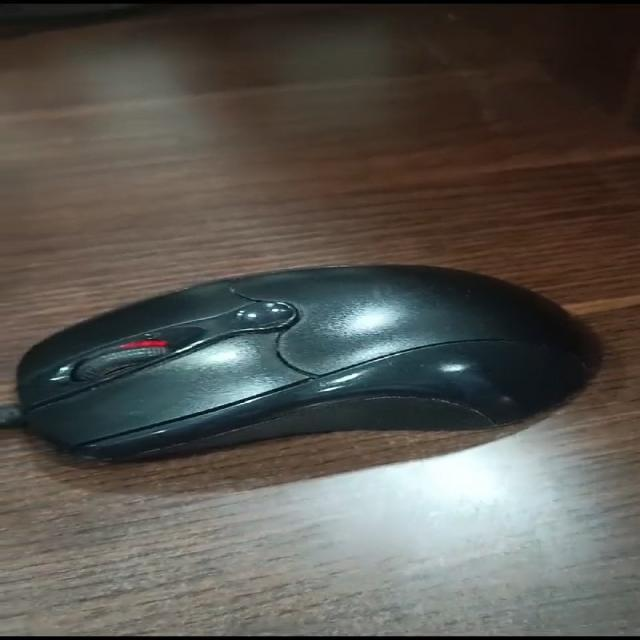Mouse: (0, 220, 619, 524)
